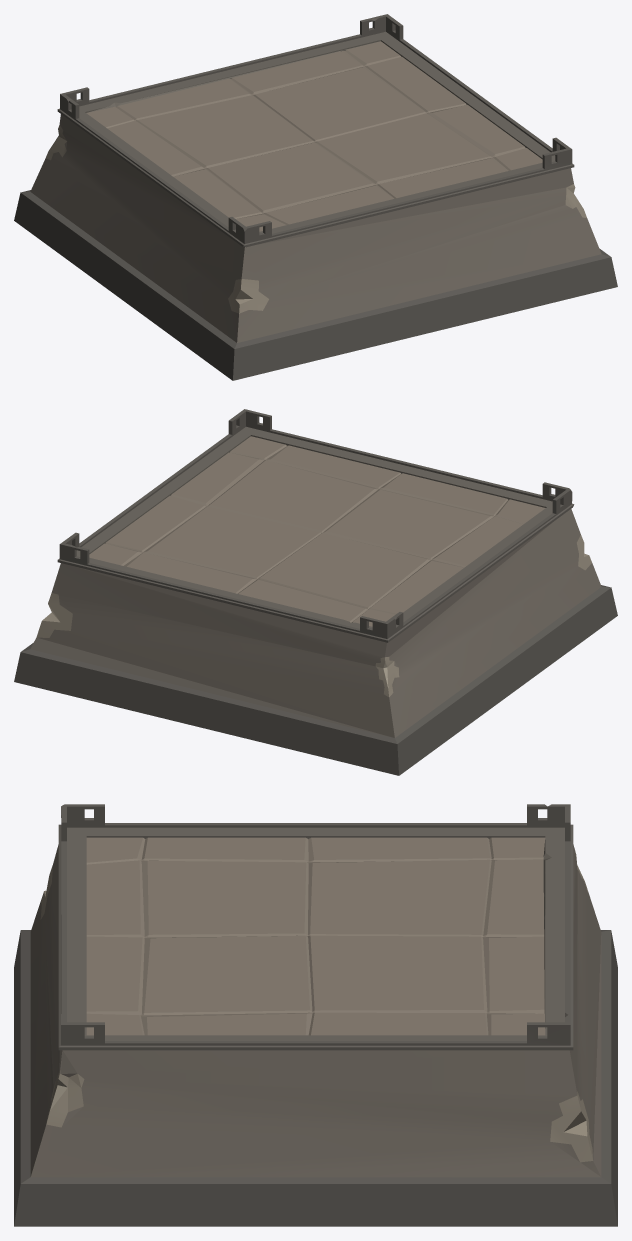
Rendered from SM_Bld_Fort_Base_01.fbx.
3 renders of one model, top to bottom at view 1: azimuth 30°, elevation 25°; view 2: azimuth 150°, elevation 25°; view 3: azimuth 270°, elevation 25°, orthographic. The views are drawn at different scales.
Visible parts, largest first — view 1: SM_Bld_Fort_Base_01; view 2: SM_Bld_Fort_Base_01; view 3: SM_Bld_Fort_Base_01.
Part boxes in pixels (left/top/right/bottom): SM_Bld_Fort_Base_01: left=14, top=14, right=617, bottom=380; SM_Bld_Fort_Base_01: left=14, top=409, right=617, bottom=775; SM_Bld_Fort_Base_01: left=14, top=804, right=617, bottom=1226.
Bounding box in the file's own units: 34.97 × 11.48 × 34.42.
